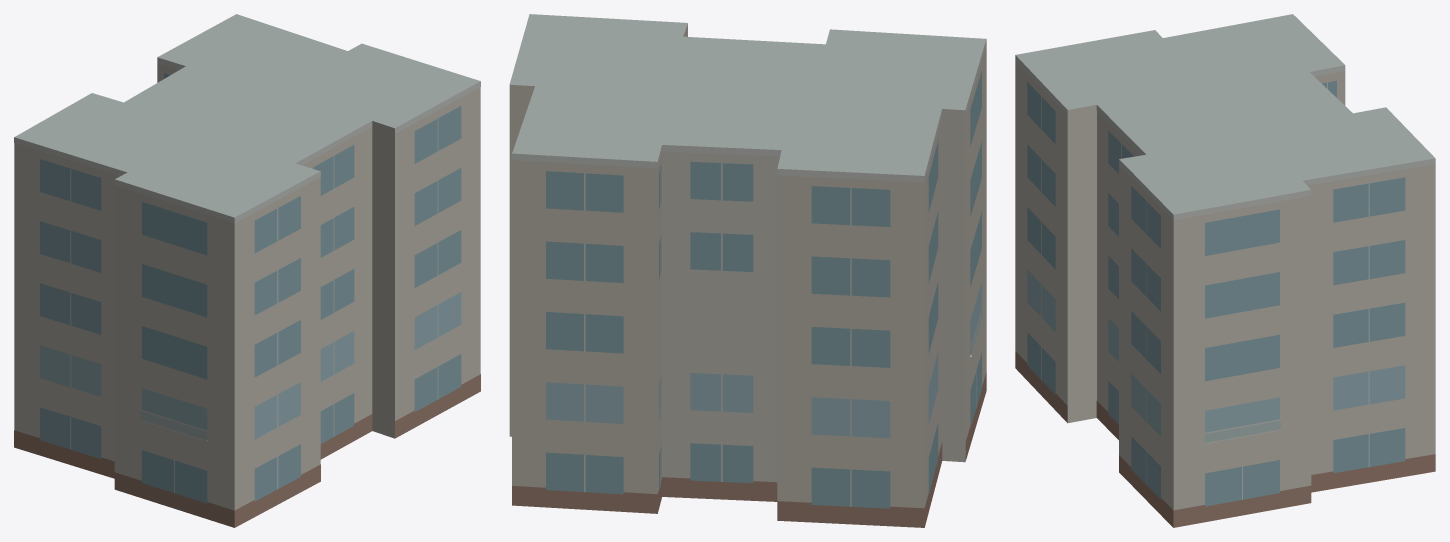
File: survey-upis-32602362.glb
3 renders of one model, left to right at view 1: azimuth 30°, elevation 25°; view 2: azimuth 150°, elevation 25°; view 3: azimuth 270°, elevation 25°, orthographic. The views are drawn at different scales.
Visible parts, largest first — view 1: survey-upis-32602362.tmp; view 2: survey-upis-32602362.tmp; view 3: survey-upis-32602362.tmp.
Part boxes in pixels (box(x1,y1,x2,y2)): survey-upis-32602362.tmp: box(14, 14, 480, 527); survey-upis-32602362.tmp: box(509, 14, 986, 527); survey-upis-32602362.tmp: box(1015, 14, 1435, 527).
Size of the model in its own units: 18.29 by 13.3 by 16.19.
